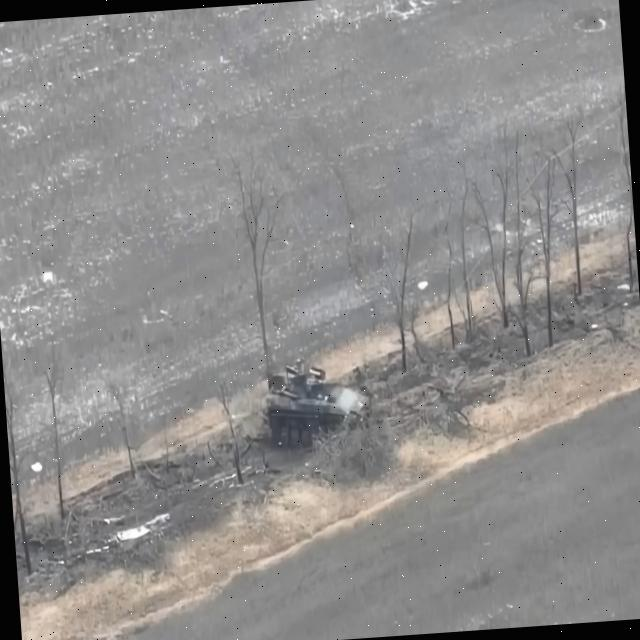AIFV: (263, 363, 371, 455)
